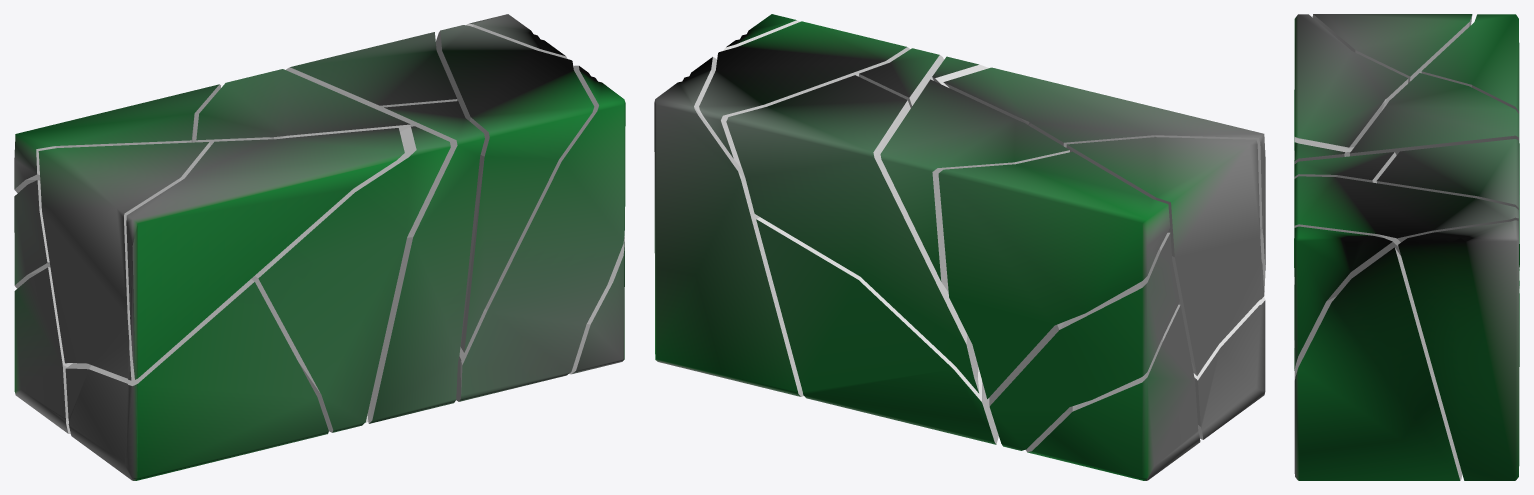
The model's file is Container(1).glb.
3 views of the same model, side by side, from view 1: azimuth 30°, elevation 25°; view 2: azimuth 150°, elevation 25°; view 3: azimuth 270°, elevation 25° (orthographic). The views are drawn at different scales.
Visible parts, largest first — view 1: Root.004, Root, Root.005, Root.008, Root.013, Root.012, Root.003, Root.006, Root.014, Root.015, Root.002, Root.001 (+2 smaller); view 2: Root.014, Root.015, Root.009, Root.007, Root.012, Root.010, Root.002, Root.006, Root.004, Root.013, Root, Root.003 (+2 smaller); view 3: Root.001, Root.009, Root.013, Root.004, Root.006, Root.015, Root.005, Root.012, Root.014, Root.003, Root.008.
Part boxes in pixels (bbox=[...]): Root.004: bbox=[126, 128, 404, 379]; Root: bbox=[65, 279, 328, 480]; Root.005: bbox=[456, 65, 625, 401]; Root.008: bbox=[251, 126, 450, 432]; Root.013: bbox=[436, 25, 594, 352]; Root.012: bbox=[38, 142, 210, 380]; Root.003: bbox=[367, 101, 484, 423]; Root.006: bbox=[196, 69, 410, 146]; Root.014: bbox=[14, 84, 220, 192]; Root.015: bbox=[286, 32, 457, 110]; Root.002: bbox=[14, 267, 72, 434]; Root.001: bbox=[569, 236, 624, 374]; Root.014: bbox=[938, 151, 1170, 398]; Root.015: bbox=[726, 75, 979, 393]; Root.009: bbox=[654, 57, 803, 396]; Root.007: bbox=[756, 217, 998, 444]; Root.012: bbox=[1066, 137, 1264, 375]; Root.010: bbox=[989, 232, 1179, 450]; Root.002: bbox=[1026, 304, 1200, 480]; Root.006: bbox=[880, 79, 1069, 292]; Root.004: bbox=[943, 67, 1265, 291]; Root.013: bbox=[699, 21, 910, 169]; Root: bbox=[1193, 297, 1265, 439]; Root.003: bbox=[859, 48, 943, 107]; Root.001: bbox=[1294, 247, 1462, 480]; Root.009: bbox=[1398, 220, 1519, 480]; Root.013: bbox=[1294, 176, 1518, 247]; Root.004: bbox=[1294, 14, 1408, 159]; Root.006: bbox=[1349, 73, 1518, 156]; Root.015: bbox=[1376, 139, 1519, 268]; Root.005: bbox=[1294, 226, 1400, 379]; Root.012: bbox=[1312, 14, 1472, 83]; Root.014: bbox=[1421, 14, 1519, 288]; Root.003: bbox=[1294, 152, 1396, 370]; Root.008: bbox=[1294, 138, 1351, 347].
Size of the model in its own units: 3.49 by 1.77 by 1.48.
